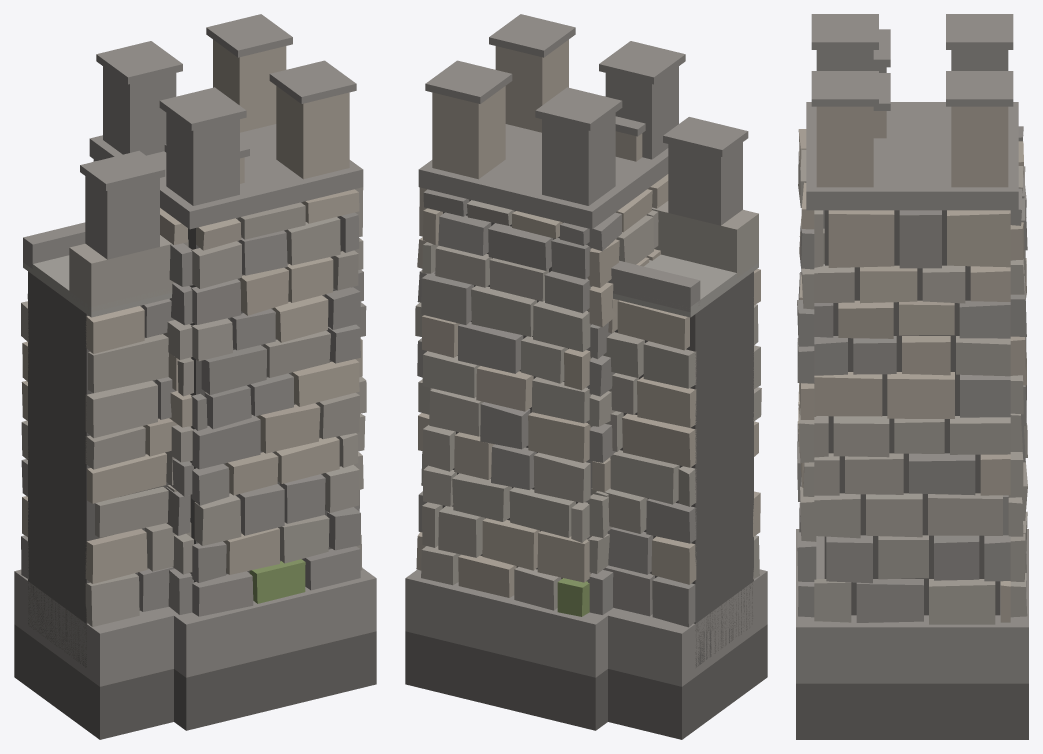
Rendered from SM_Wall_End.fbx.
3 views of the same model, side by side, from view 1: azimuth 30°, elevation 25°; view 2: azimuth 150°, elevation 25°; view 3: azimuth 270°, elevation 25° (orthographic). The views are drawn at different scales.
Parts seen in each view (by area): view 1: SM_Wall_End; view 2: SM_Wall_End; view 3: SM_Wall_End.
Boxes of the visible parts, x1=… form: SM_Wall_End: x1=14, y1=14, x2=376, y2=739; SM_Wall_End: x1=405, y1=14, x2=767, y2=739; SM_Wall_End: x1=796, y1=14, x2=1028, y2=739.
Bounding box in the file's own units: 3.12 × 6.76 × 2.25.
